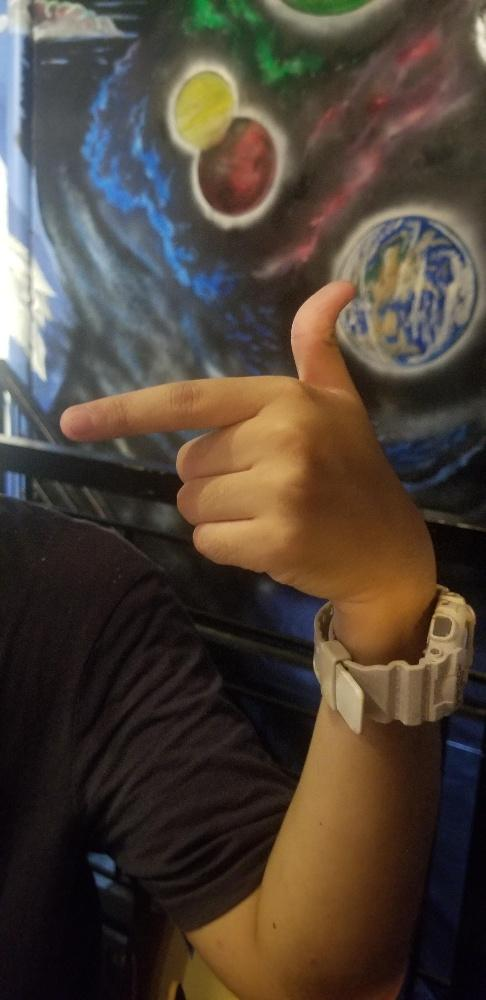g: (57, 277, 398, 599)
